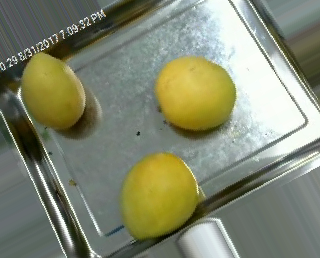Mango: (123, 154, 197, 236), (156, 56, 236, 130), (21, 51, 86, 128)
